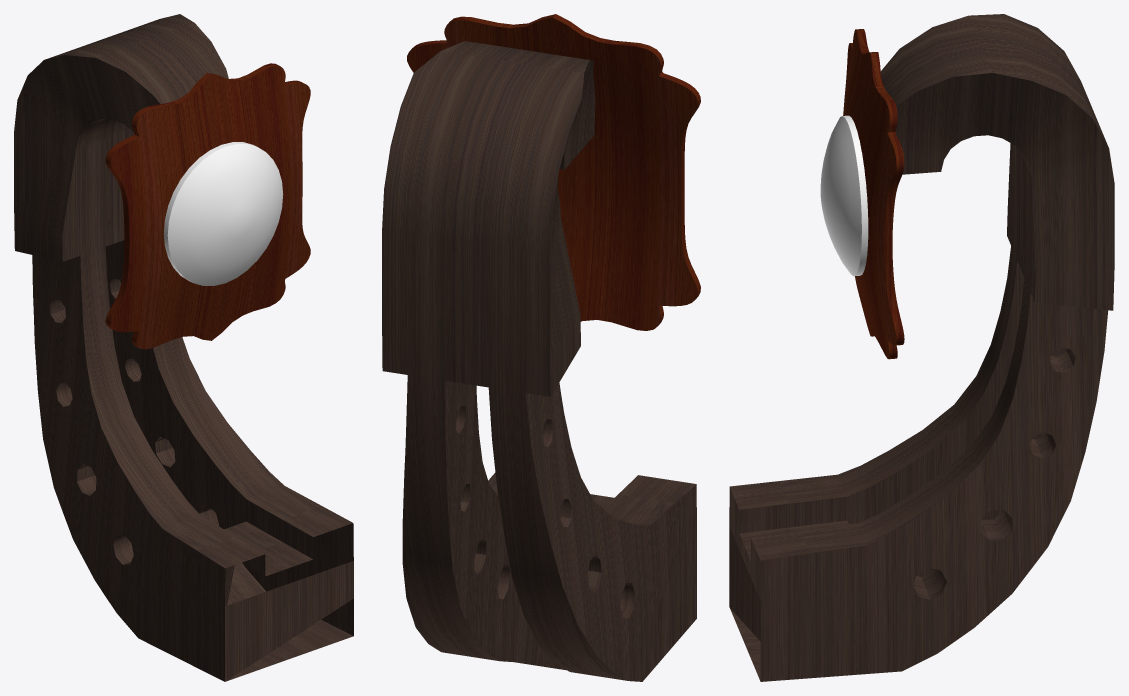
The picture shows the model from 3 angles, left to right: view 1: azimuth 30°, elevation 25°; view 2: azimuth 150°, elevation 25°; view 3: azimuth 270°, elevation 25°; orthographic projection. The views are drawn at different scales.
Visible parts, largest first — view 1: 对象038, 对象040, 对象039; view 2: 对象038, 对象040; view 3: 对象038, 对象040, 对象039.
Part boxes in pixels (x1,y1,x2,y2): 对象038: [14, 14, 353, 681]; 对象040: [105, 63, 310, 349]; 对象039: [163, 142, 283, 285]; 对象038: [382, 41, 696, 681]; 对象040: [407, 14, 700, 330]; 对象038: [729, 14, 1114, 681]; 对象040: [843, 29, 904, 359]; 对象039: [820, 115, 868, 276].
Size of the model in its own units: 68.28 by 159 by 95.36.
3 materials, 3 textured.
